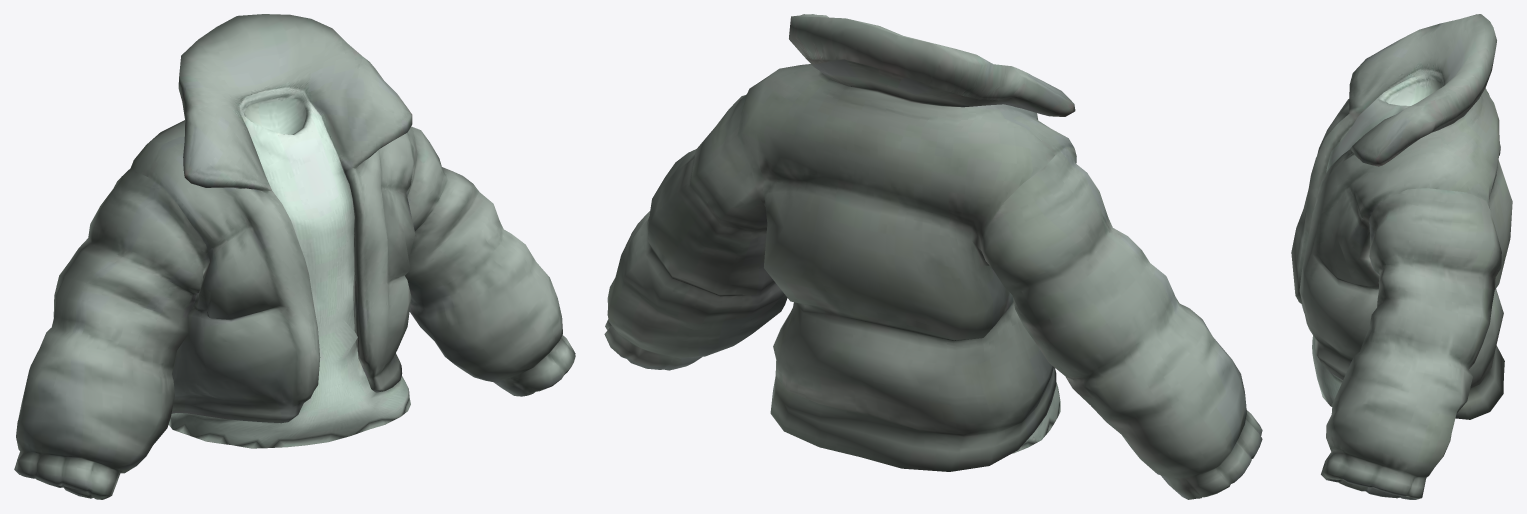
3 renders of one model, left to right at view 1: azimuth 30°, elevation 25°; view 2: azimuth 150°, elevation 25°; view 3: azimuth 270°, elevation 25°, orthographic. The views are drawn at different scales.
Visible parts, largest first — view 1: Wolf3D_Outfit_Top; view 2: Wolf3D_Outfit_Top; view 3: Wolf3D_Outfit_Top.
Boxes of the visible parts, <box> form: Wolf3D_Outfit_Top: <box>14,14,575,499</box>; Wolf3D_Outfit_Top: <box>604,14,1262,499</box>; Wolf3D_Outfit_Top: <box>1291,14,1512,499</box>.
Size of the model in its own units: 0.957 by 0.6475 by 0.3533.
Materials: 1 (1 with a texture image).
